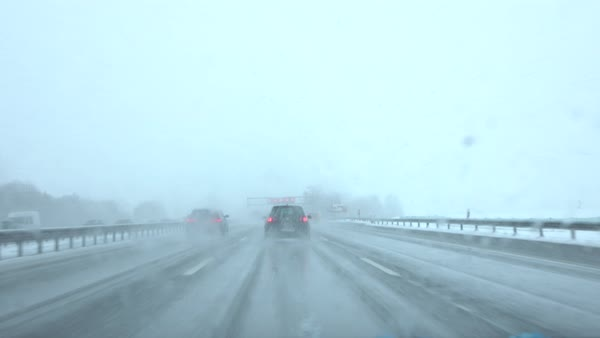car: (264, 204, 307, 239), (184, 208, 229, 236), (8, 212, 39, 228)
